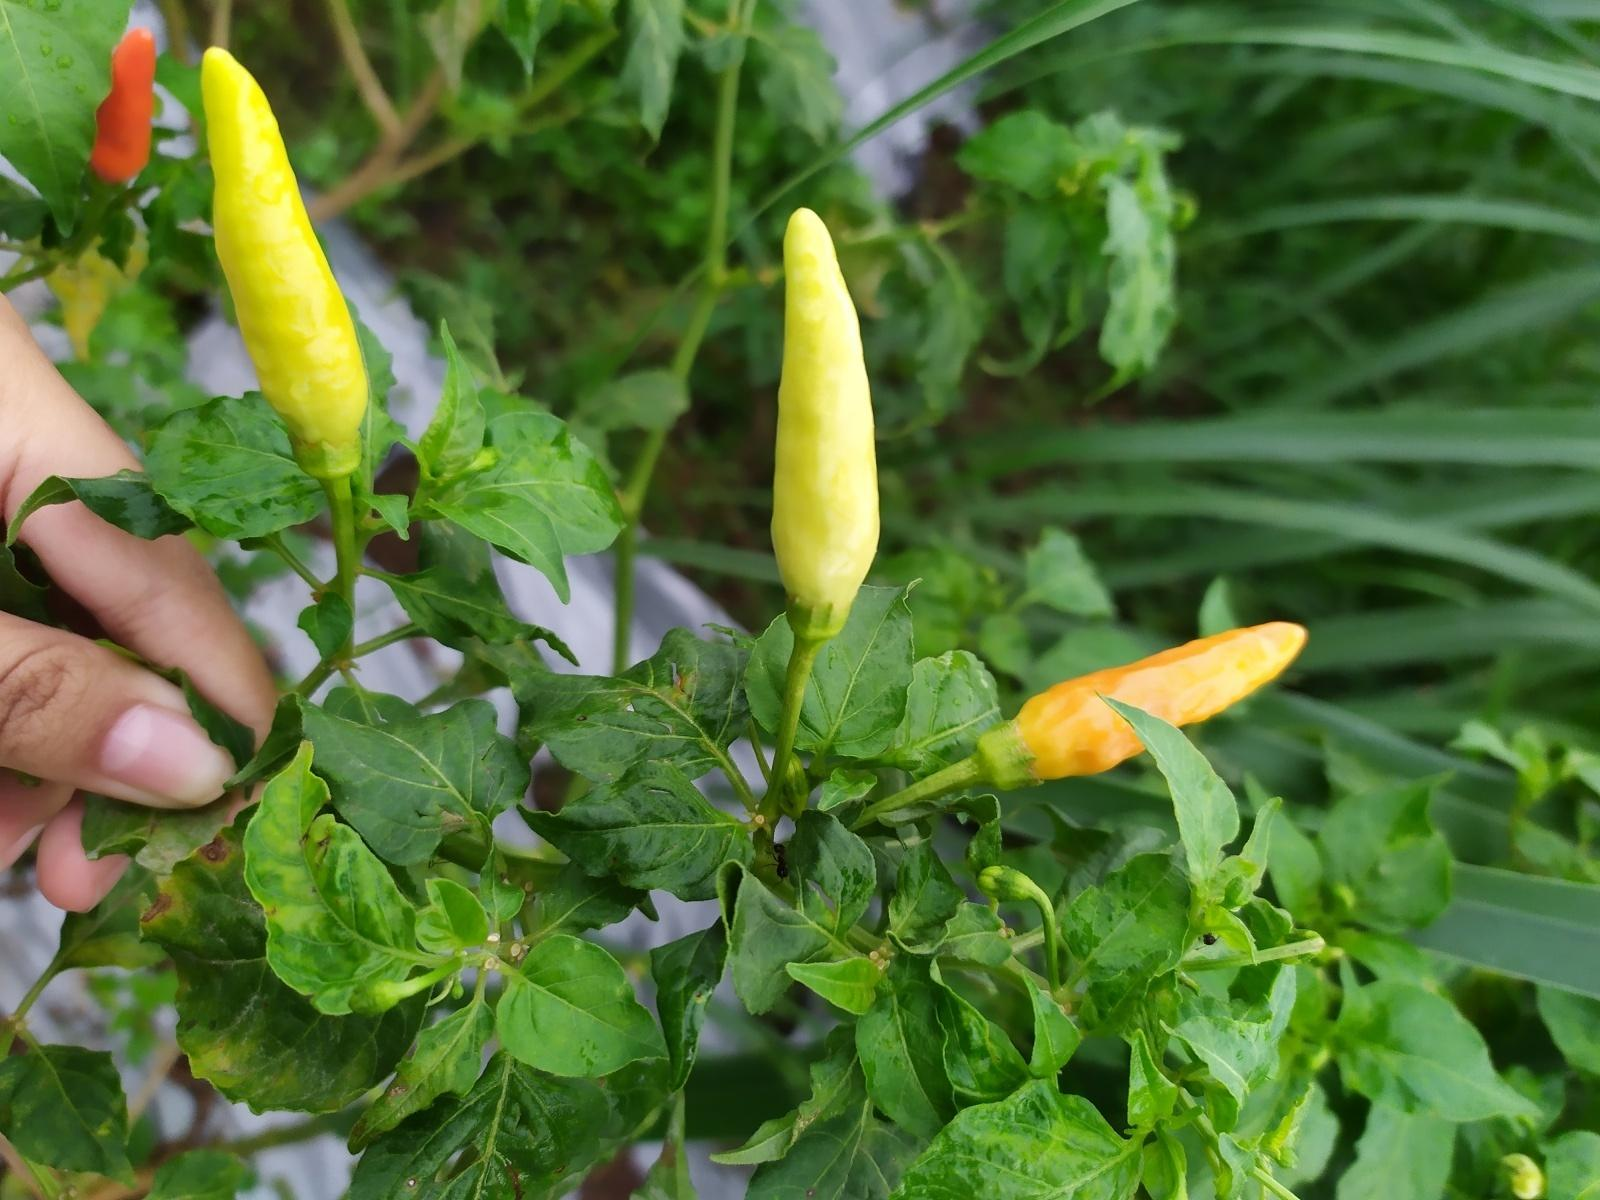cabai_normal: (202, 45, 370, 456), (1013, 621, 1309, 782), (770, 205, 881, 616), (89, 28, 156, 188)
